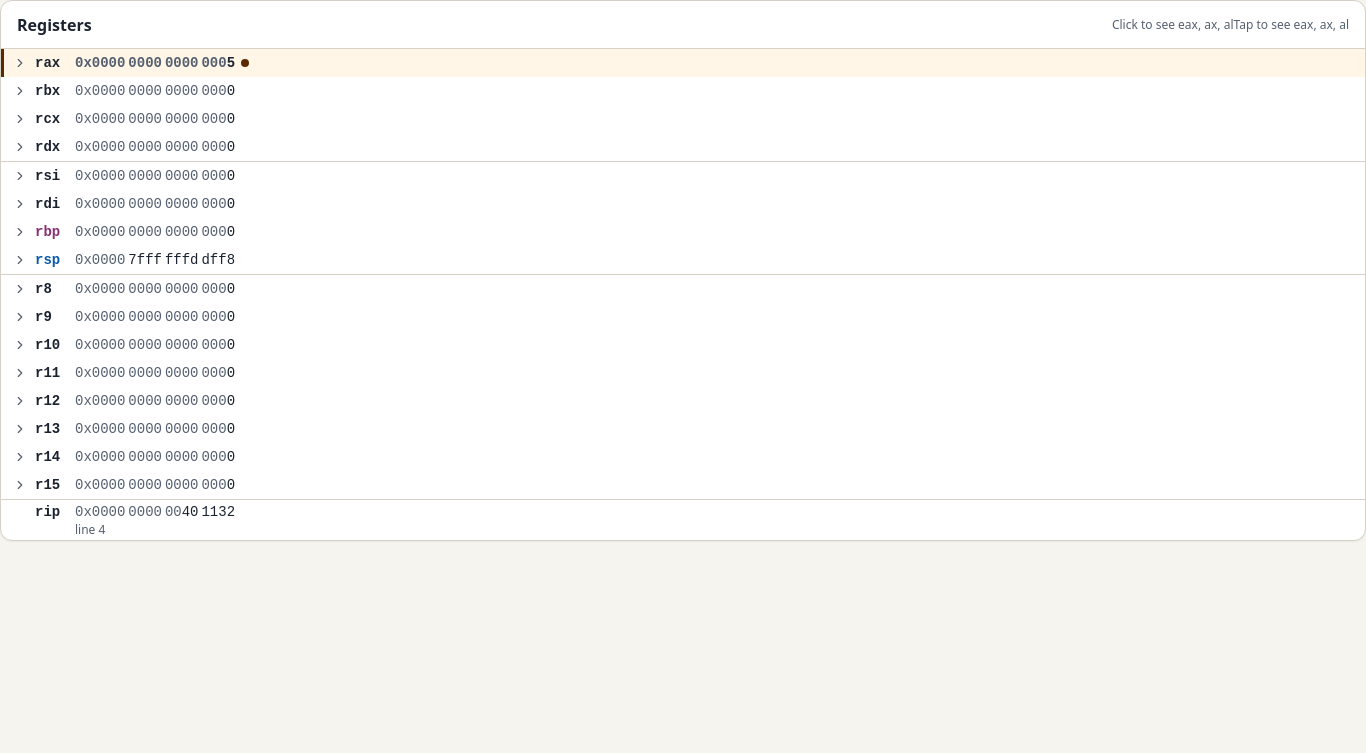
it: RegistersPanel › opens a row into its parts and shows the cleared top half
The width and height of the screenshot is (1366, 753).
Click the button with aria-label "rax: ".
click(109, 63)  # box [1, 49, 1365, 77]
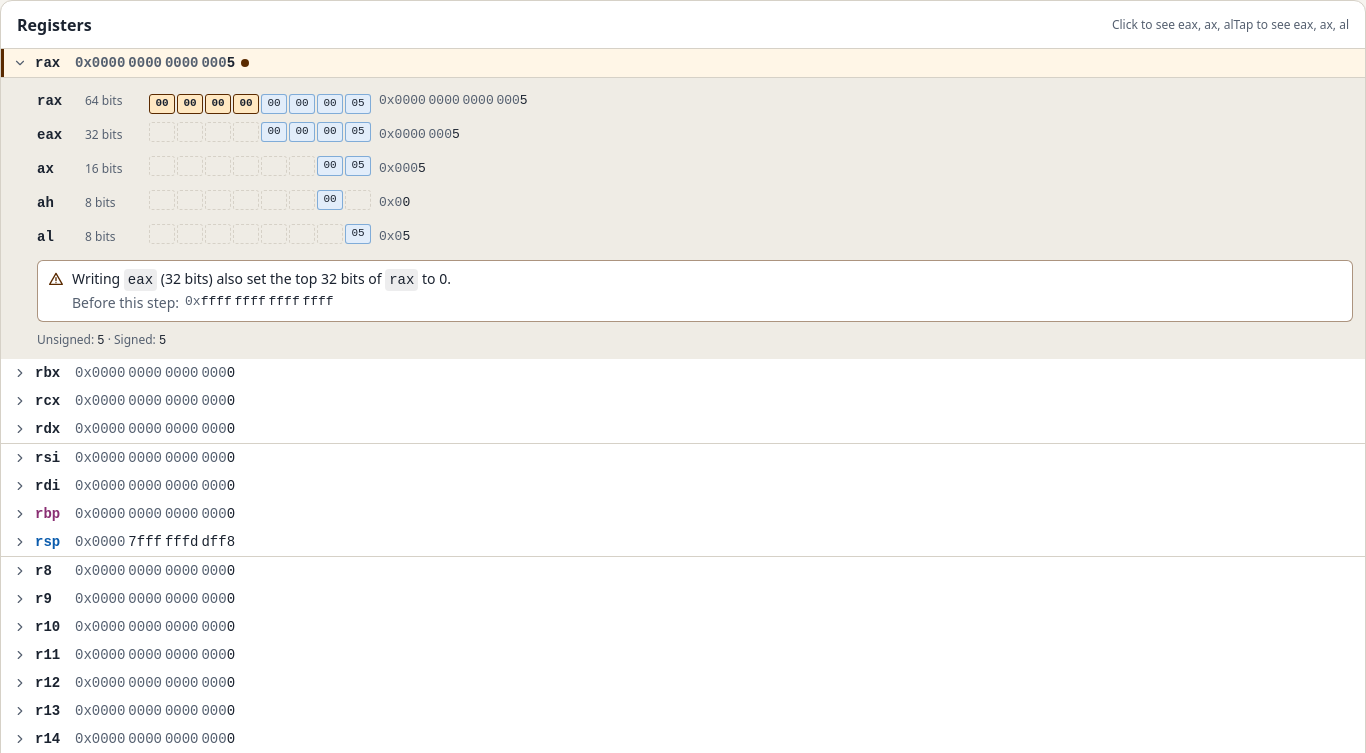
Expected: the button with aria-label "rax: " is expanded, [1, 49, 1365, 77]
Expected: the text "eax" below "64" is shown, [37, 126, 62, 142]
Expected: the text "ax" is shown, [37, 160, 54, 176]
